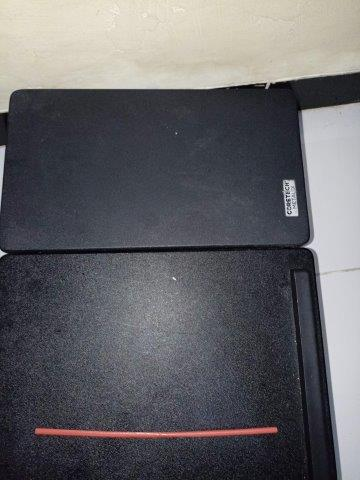sedotan: (35, 426, 277, 439)
